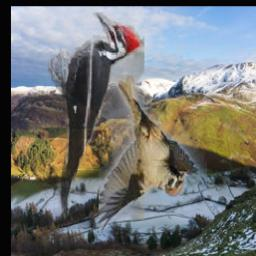Sparrow: (98, 75, 206, 234)
Woodpecker: (47, 12, 143, 220)
